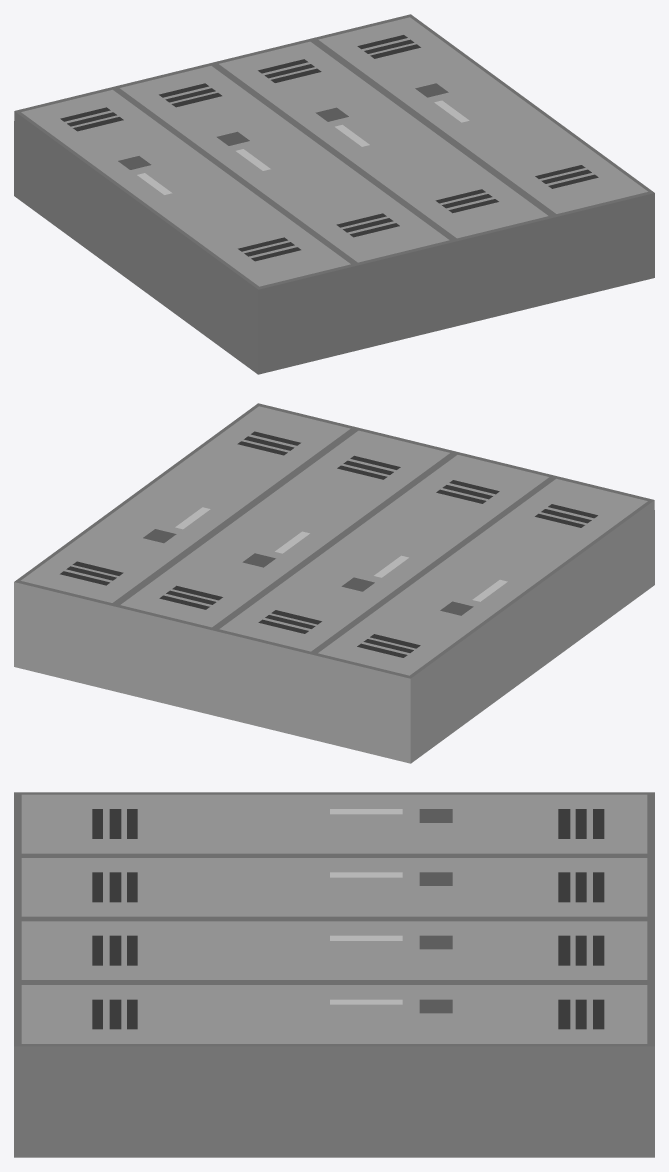
File: Lockers.glb
The picture shows the model from 3 angles, top to bottom: view 1: azimuth 30°, elevation 25°; view 2: azimuth 150°, elevation 25°; view 3: azimuth 270°, elevation 25°; orthographic projection. The views are drawn at different scales.
Visible parts, largest first — view 1: SO_Lockers_01; view 2: SO_Lockers_01; view 3: SO_Lockers_01.
Boxes of the visible parts, box(x1,y1,x2,y2) form: SO_Lockers_01: box(14, 14, 654, 374); SO_Lockers_01: box(14, 403, 654, 763); SO_Lockers_01: box(14, 792, 654, 1157).
Size of the model in its own units: 3.22 by 0.6585 by 3.43.
Materials: 1 (1 with a texture image).
